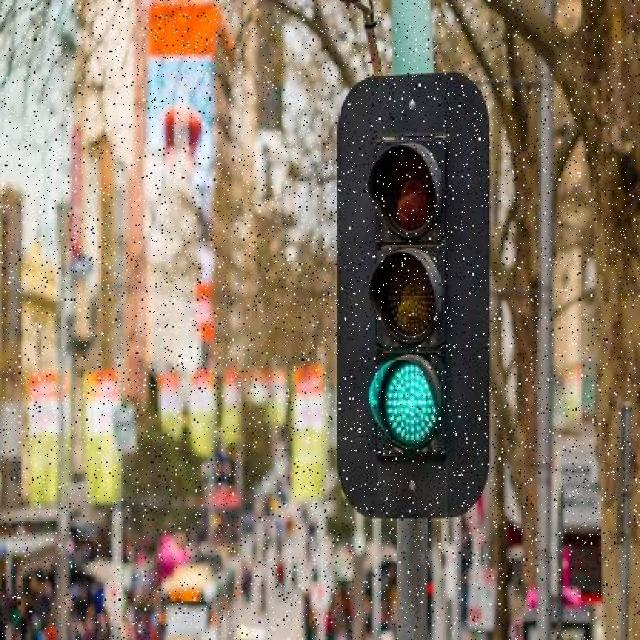green-light: (329, 68, 513, 512)
